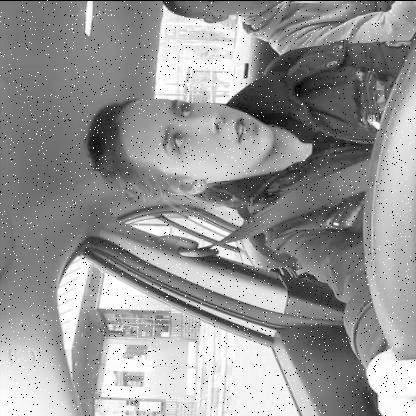seatbelt: (65, 93, 416, 261)
